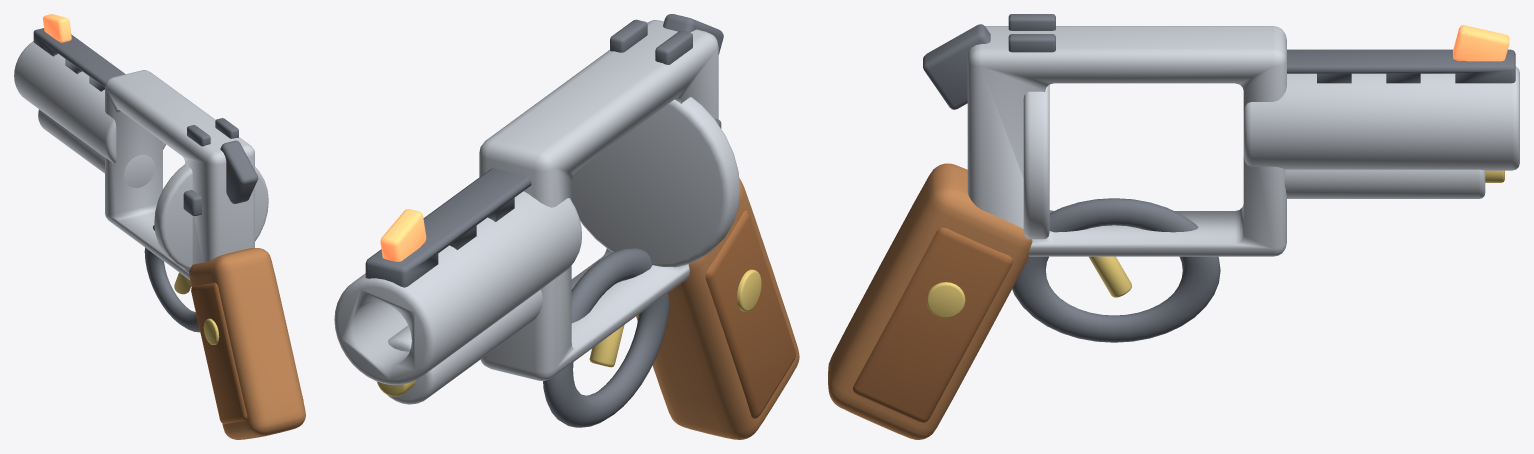
The model's file is revolver_frame.glb.
The picture shows the model from 3 angles, left to right: view 1: azimuth 30°, elevation 25°; view 2: azimuth 150°, elevation 25°; view 3: azimuth 270°, elevation 25°; orthographic projection. The views are drawn at different scales.
Parts seen in each view (by area): view 1: RevolverFrame, WoodenGrip, SnubBarrel, GripPanel_-1, RecoilShield, BarrelVentRib, EjectorShroud, TriggerGuard, HammerSpur, FrontSight, CylinderLatch, Cube (+2 smaller); view 2: RevolverFrame, SnubBarrel, RecoilShield, WoodenGrip, GripPanel_-1, TriggerGuard, BarrelVentRib, EjectorShroud, FrontSight, Cube, Cube.001, GripMedallion_-1 (+2 smaller); view 3: RevolverFrame, SnubBarrel, WoodenGrip, GripPanel_1, TriggerGuard, BarrelVentRib, EjectorShroud, RecoilShield, HammerSpur, FrontSight, GripMedallion_1, Trigger (+2 smaller).
Boxes of the visible parts, x1,y1,x2,y2 form: RevolverFrame: (105,70,254,279); WoodenGrip: (189,248,305,439); SnubBarrel: (14,41,165,163); GripPanel_-1: (191,282,247,424); RecoilShield: (154,164,268,269); BarrelVentRib: (33,28,125,91); EjectorShroud: (38,109,155,187); TriggerGuard: (144,225,199,332); HammerSpur: (220,140,258,203); FrontSight: (43,14,71,42); CylinderLatch: (183,190,201,216); Cube: (187,125,210,146); RevolverFrame: (479,20,718,380); SnubBarrel: (334,191,581,385); RecoilShield: (571,97,740,267); WoodenGrip: (636,178,799,439); GripPanel_-1: (705,210,795,418); TriggerGuard: (543,248,669,427); BarrelVentRib: (365,168,531,287); EjectorShroud: (387,290,542,404); FrontSight: (380,209,426,261); Cube: (655,31,692,64); Cube.001: (610,19,647,52); GripMedallion_-1: (737,269,761,311); RevolverFrame: (967,26,1286,256); SnubBarrel: (1243,66,1519,170); WoodenGrip: (828,163,1032,439); GripPanel_1: (853,227,1013,422); TriggerGuard: (1012,198,1220,342); BarrelVentRib: (1287,49,1515,83); EjectorShroud: (1284,169,1485,198); RecoilShield: (1023,85,1049,239); HammerSpur: (923,24,990,109); FrontSight: (1453,25,1509,61); GripMedallion_1: (926,282,965,318); Trigger: (1089,256,1131,297).
Size of the model in its own units: 0.84 by 2.06 by 3.21.
